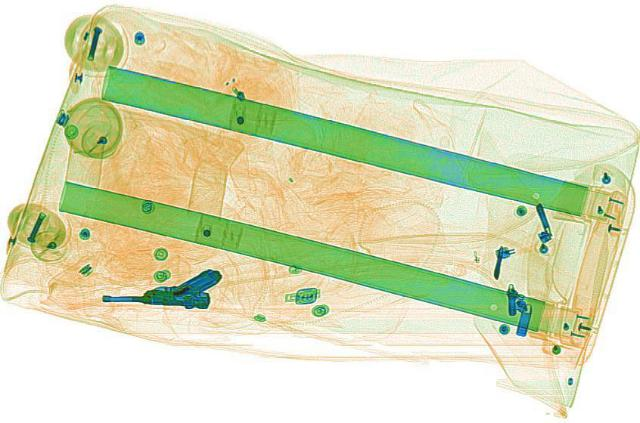Gun: (100, 267, 222, 308)
